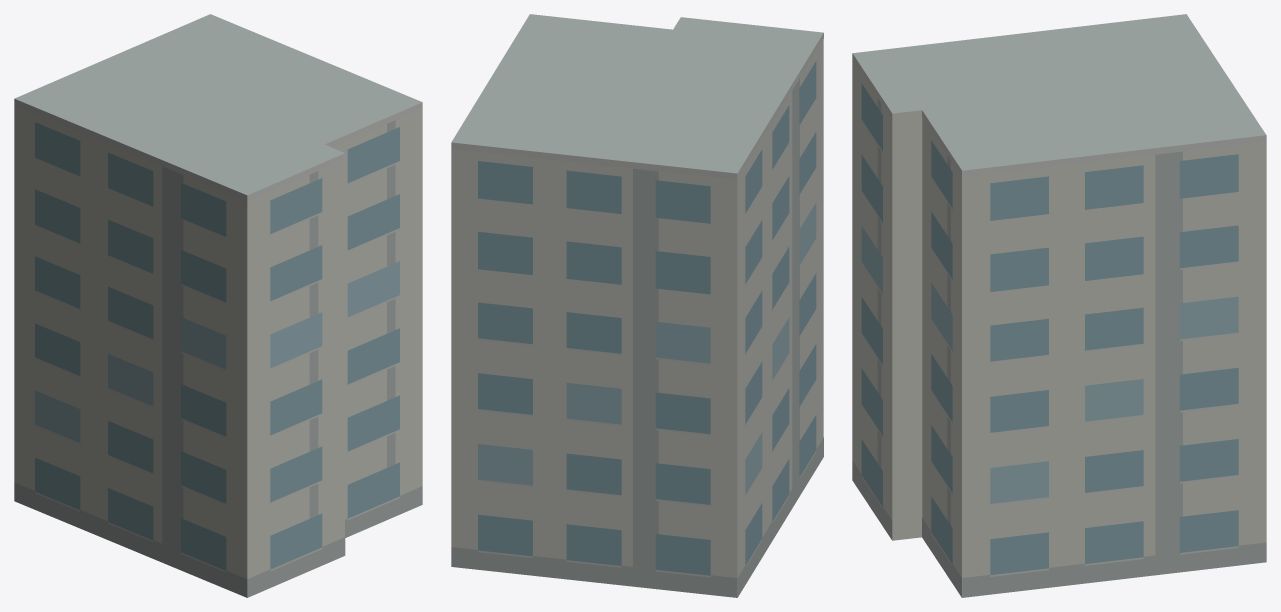
The model's file is survey-upis-32803195.glb.
3 renders of one model, left to right at view 1: azimuth 30°, elevation 25°; view 2: azimuth 150°, elevation 25°; view 3: azimuth 270°, elevation 25°, orthographic. The views are drawn at different scales.
Visible parts, largest first — view 1: survey-upis-32803195.tmp; view 2: survey-upis-32803195.tmp; view 3: survey-upis-32803195.tmp.
Boxes of the visible parts, bbox=[...] form: survey-upis-32803195.tmp: bbox=[14, 14, 422, 597]; survey-upis-32803195.tmp: bbox=[451, 14, 823, 597]; survey-upis-32803195.tmp: bbox=[852, 14, 1266, 597].
Size of the model in its own units: 12.52 by 15.9 by 13.98.
